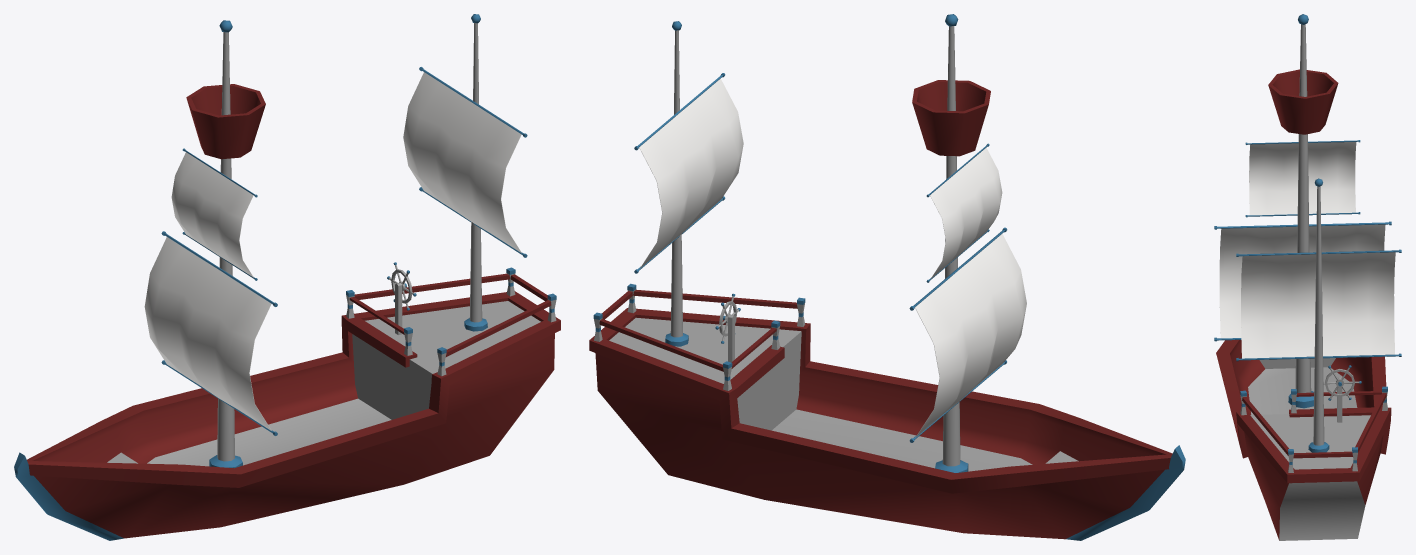
The model's file is Toy_Ship_231109.glb.
The picture shows the model from 3 angles, left to right: view 1: azimuth 30°, elevation 25°; view 2: azimuth 150°, elevation 25°; view 3: azimuth 270°, elevation 25°; orthographic projection. The views are drawn at different scales.
Visible parts, largest first — view 1: Toy_Ship; view 2: Toy_Ship; view 3: Toy_Ship.
Part boxes in pixels (x1=…): Toy_Ship: x1=14, y1=14, x2=560, y2=540; Toy_Ship: x1=589, y1=14, x2=1185, y2=540; Toy_Ship: x1=1214, y1=14, x2=1401, y2=540.
Size of the model in its own units: 1.28 by 1.09 by 0.439.
Materials: 1 (1 with a texture image).
